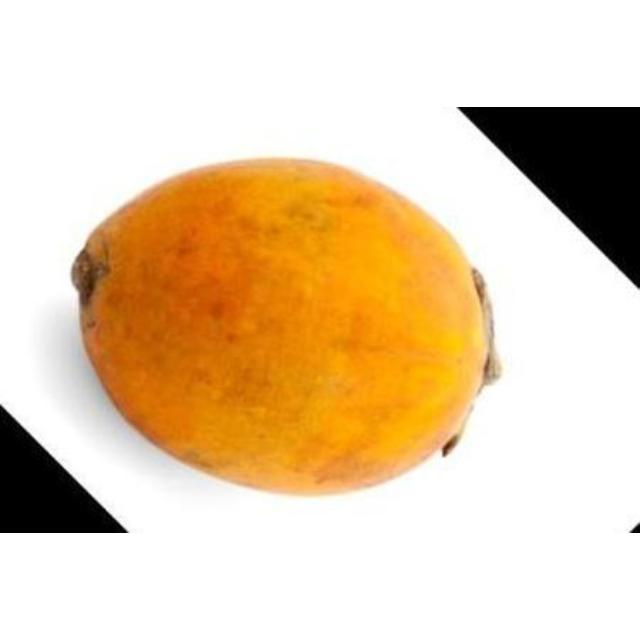good: (68, 158, 494, 500)
